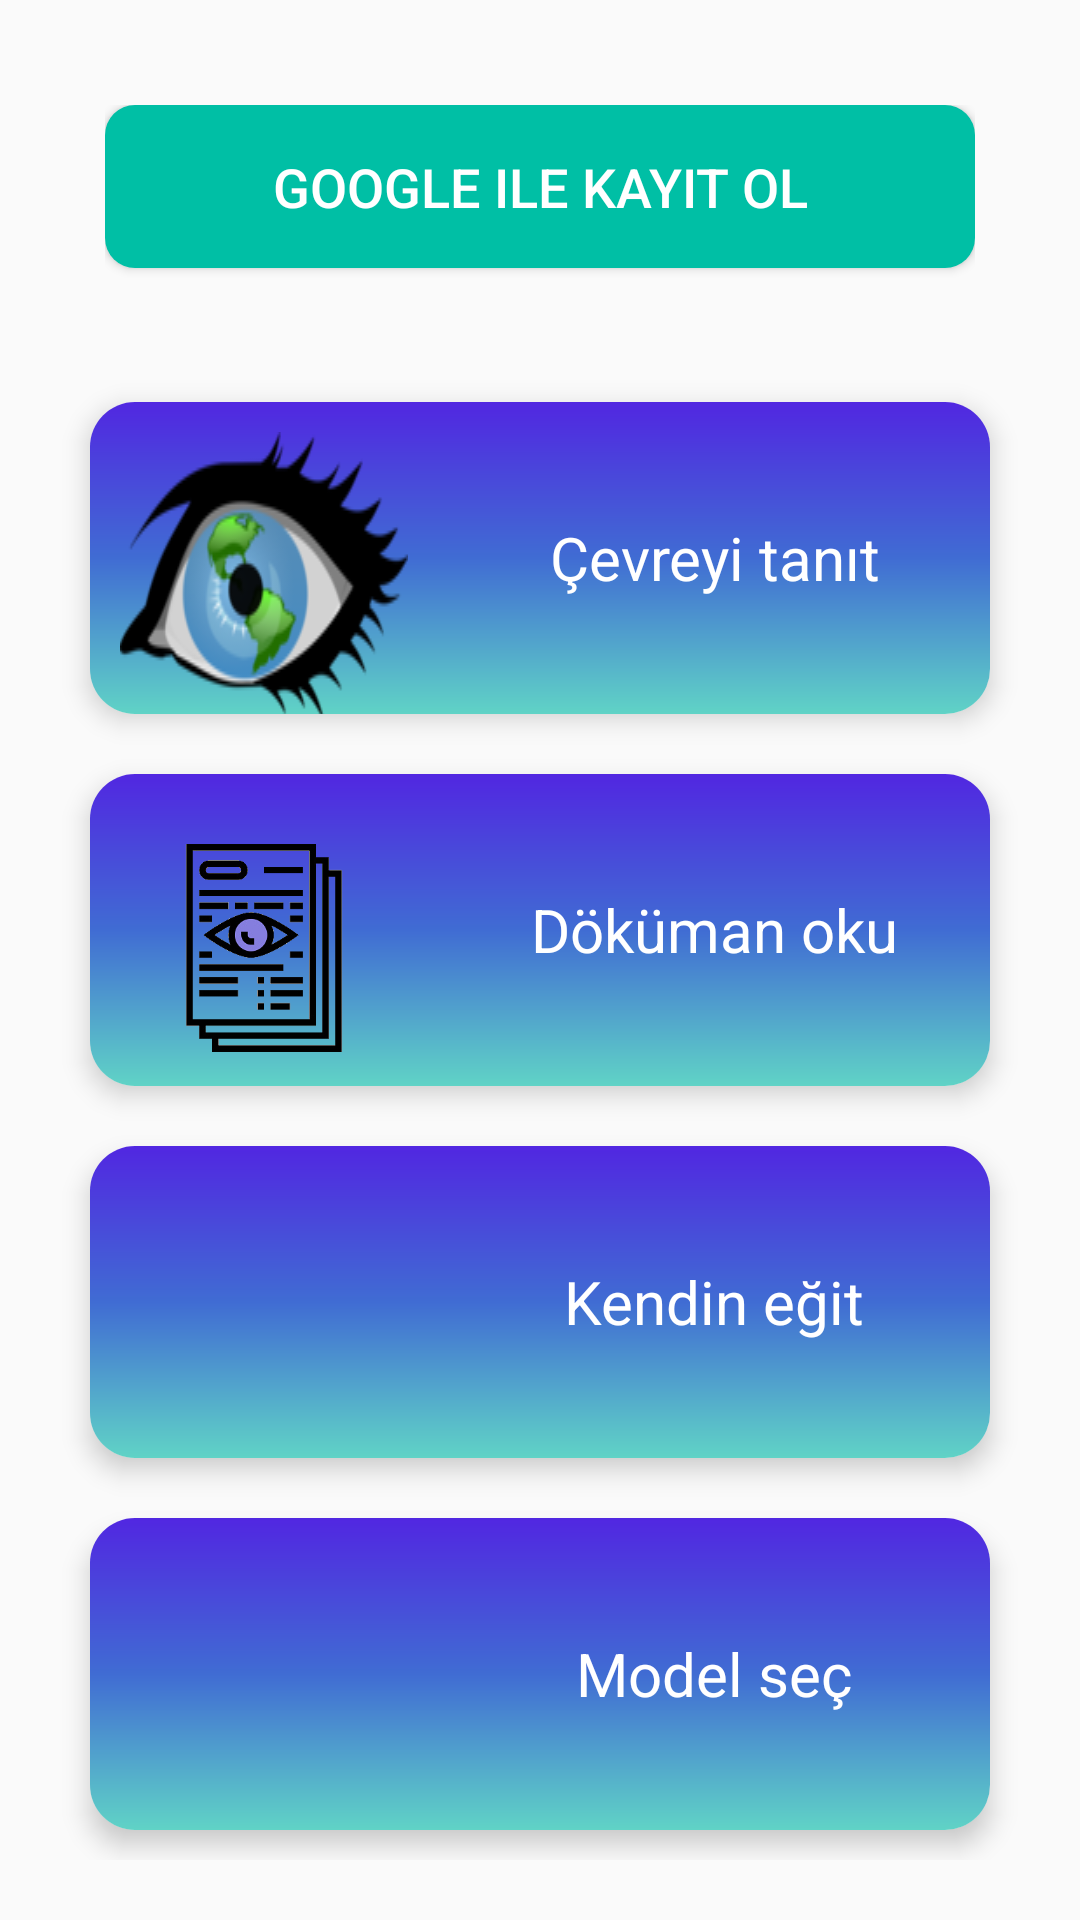

Where to tap for icons on this 1080 × 1920 app screen, as (x=x, y=y):
documentreadicon: (x=264, y=945)
